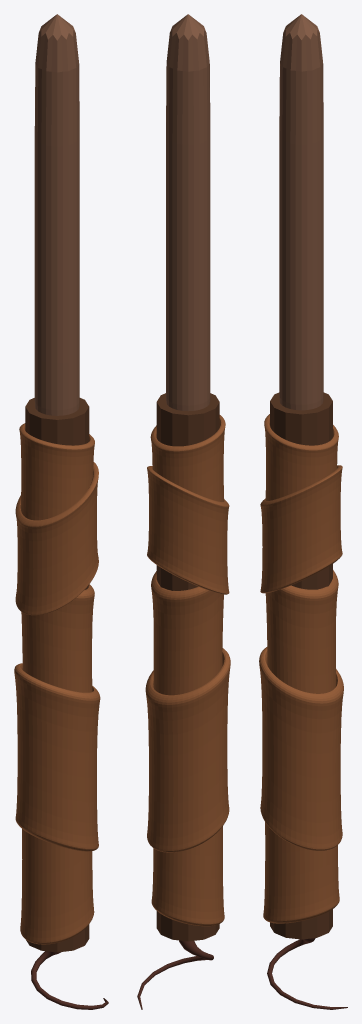
File: Wand 319.glb
The picture shows the model from 3 angles, left to right: view 1: azimuth 30°, elevation 25°; view 2: azimuth 210°, elevation 25°; view 3: azimuth 330°, elevation 25°; orthographic projection.
Visible parts, largest first — view 1: GeneratedWand; view 2: GeneratedWand; view 3: GeneratedWand.
Part boxes in pixels (x1,y1,x2,y2): GeneratedWand: (14,14,108,1009); GeneratedWand: (137,14,230,1009); GeneratedWand: (259,14,347,1009).
Size of the model in its own units: 0.0462 by 0.521 by 0.0408.
